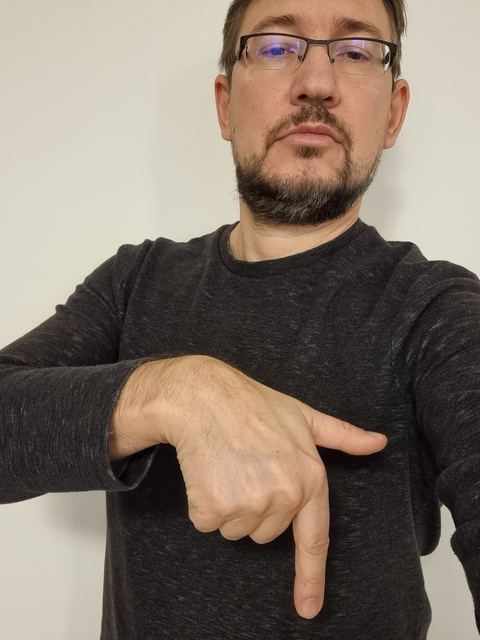GestDown: (187, 405, 385, 619)
